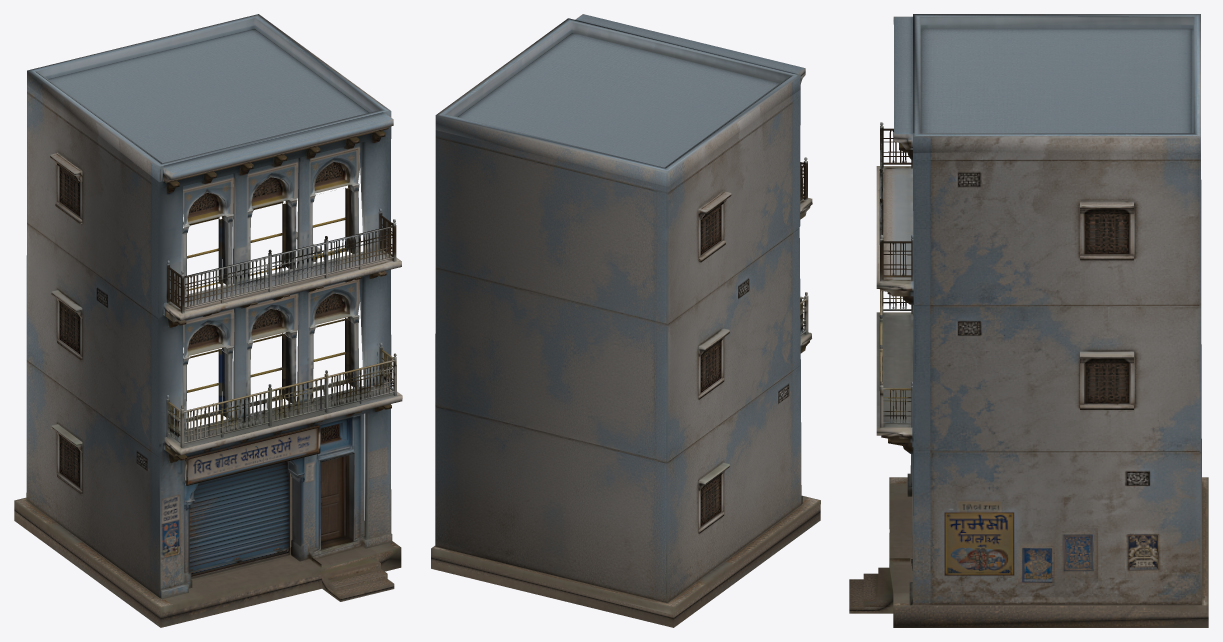
The model's file is blue building 3d model.glb.
The picture shows the model from 3 angles, left to right: view 1: azimuth 30°, elevation 25°; view 2: azimuth 150°, elevation 25°; view 3: azimuth 270°, elevation 25°; orthographic projection. The views are drawn at different scales.
Visible parts, largest first — view 1: 27a84a2e-62b9-46f0-bd9e-1599b3aae67c; view 2: 27a84a2e-62b9-46f0-bd9e-1599b3aae67c; view 3: 27a84a2e-62b9-46f0-bd9e-1599b3aae67c.
Boxes of the visible parts, x1,y1,x2,y2 form: 27a84a2e-62b9-46f0-bd9e-1599b3aae67c: [14, 14, 402, 627]; 27a84a2e-62b9-46f0-bd9e-1599b3aae67c: [431, 14, 820, 627]; 27a84a2e-62b9-46f0-bd9e-1599b3aae67c: [849, 14, 1208, 627].
Size of the model in its own units: 0.5776 by 0.9995 by 0.6636.
1 material, 1 textured.
